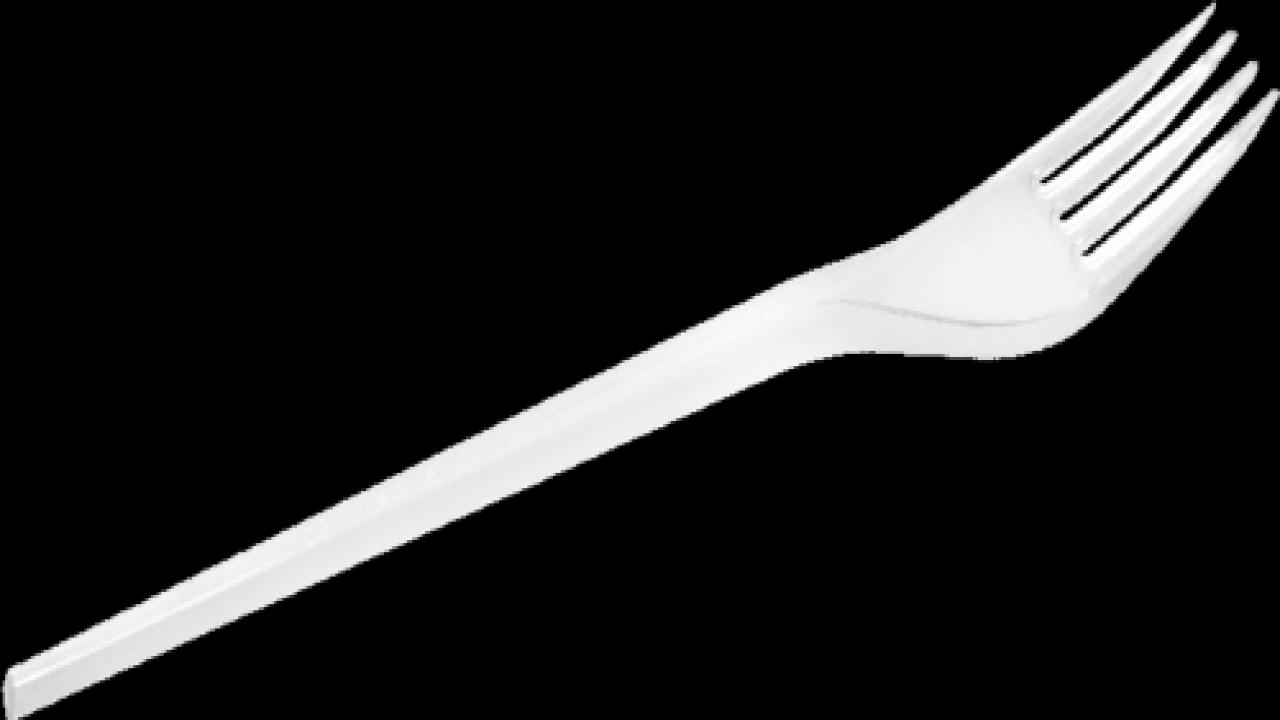fork: (2, 0, 1278, 714)
